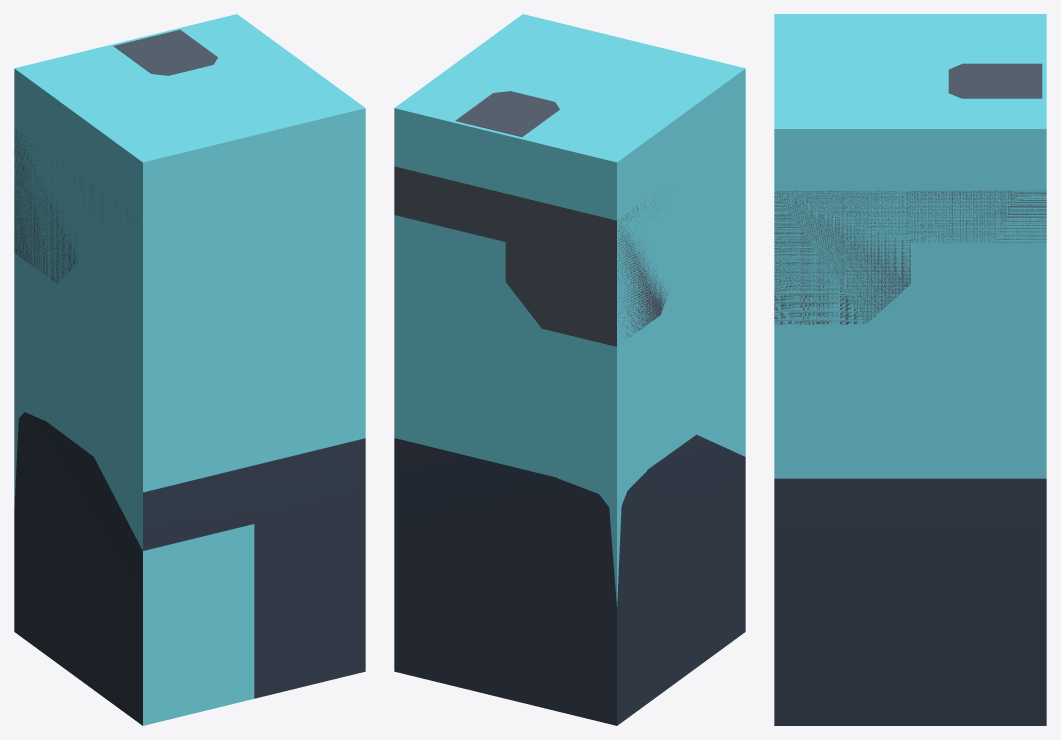
The model's file is PBOX1_MudFlA_04.FBX.
The picture shows the model from 3 angles, left to right: view 1: azimuth 30°, elevation 25°; view 2: azimuth 150°, elevation 25°; view 3: azimuth 270°, elevation 25°; orthographic projection. The views are drawn at different scales.
Parts seen in each view (by area): view 1: PBOX1_MudFlA_04, PBOX1_SUB_TAB_MudFlA_004, PBOX1_SUB_MudFlA_009; view 2: PBOX1_MudFlA_04, PBOX1_SUB_TAB_MudFlA_004, PBOX1_SUB_MudFlA_009; view 3: PBOX1_MudFlA_04, PBOX1_SUB_TAB_MudFlA_004, PBOX1_SUB_MudFlA_009.
Boxes of the visible parts, bbox=[...] form: PBOX1_MudFlA_04: bbox=[14, 14, 365, 725]; PBOX1_SUB_TAB_MudFlA_004: bbox=[14, 412, 365, 725]; PBOX1_SUB_MudFlA_009: bbox=[14, 29, 217, 283]; PBOX1_MudFlA_04: bbox=[394, 14, 745, 606]; PBOX1_SUB_TAB_MudFlA_004: bbox=[394, 434, 745, 725]; PBOX1_SUB_MudFlA_009: bbox=[394, 91, 668, 346]; PBOX1_MudFlA_04: bbox=[774, 14, 1046, 478]; PBOX1_SUB_TAB_MudFlA_004: bbox=[774, 478, 1046, 725]; PBOX1_SUB_MudFlA_009: bbox=[774, 63, 1046, 324].
Bounding box in the file's own units: 6 × 14.51 × 6.
